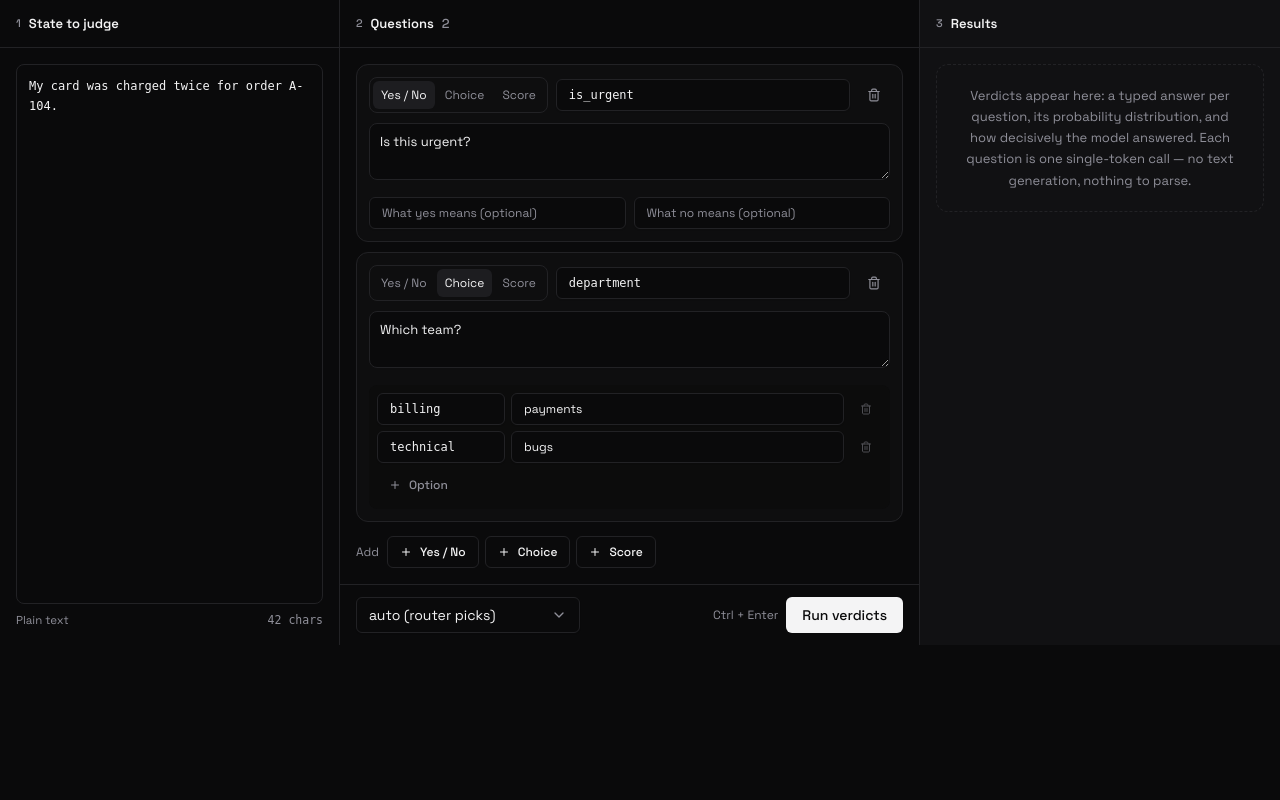
Test: VerdictsWorkspace › renders each verdict with its value, probabilities, and confidence
Click the button with aria-label "Run verdicts".
click(845, 615)  # box x1=786 y1=597 x2=903 y2=633
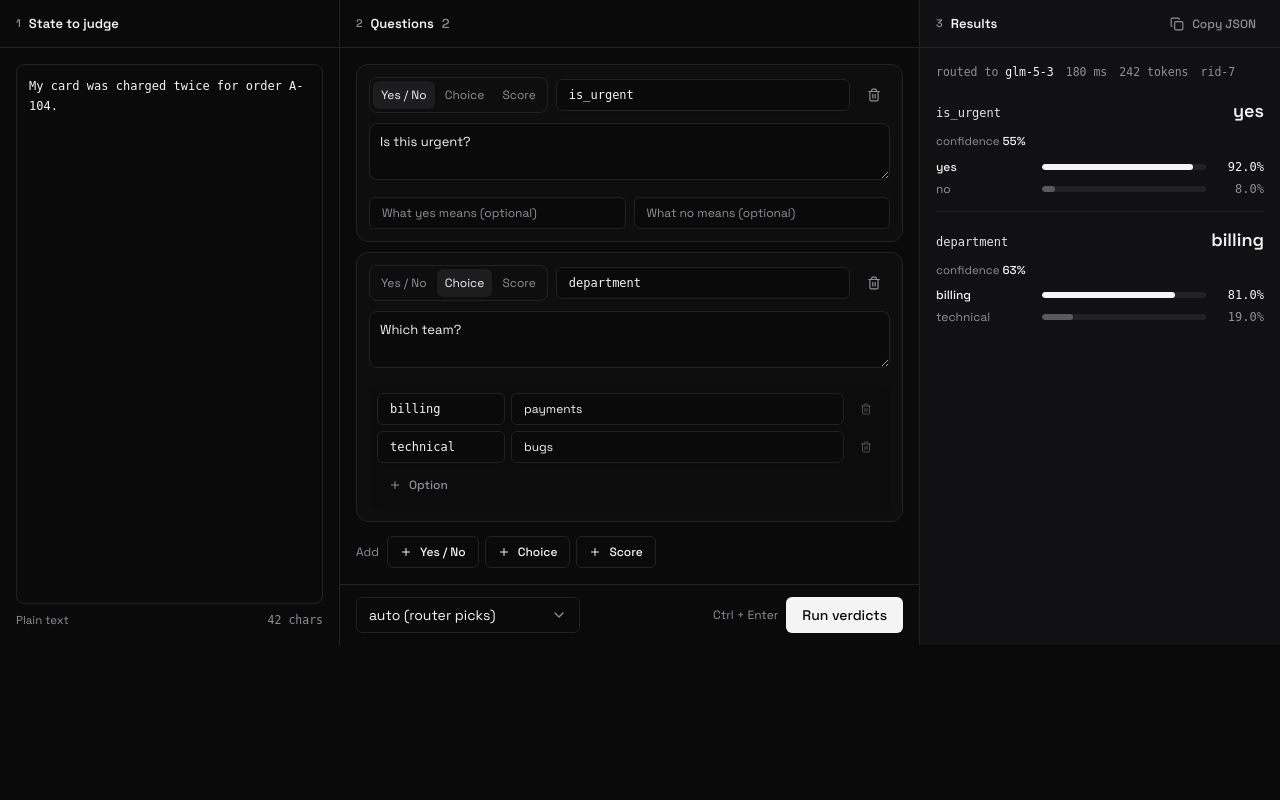
Check: the text "is_urgent" is shown, box x1=936 y1=105 x2=1001 y2=121
Check: the text "92.0%" is shown, box x1=1228 y1=160 x2=1264 y2=174
Check: the text "department" is shown, box x1=936 y1=234 x2=1008 y2=250
